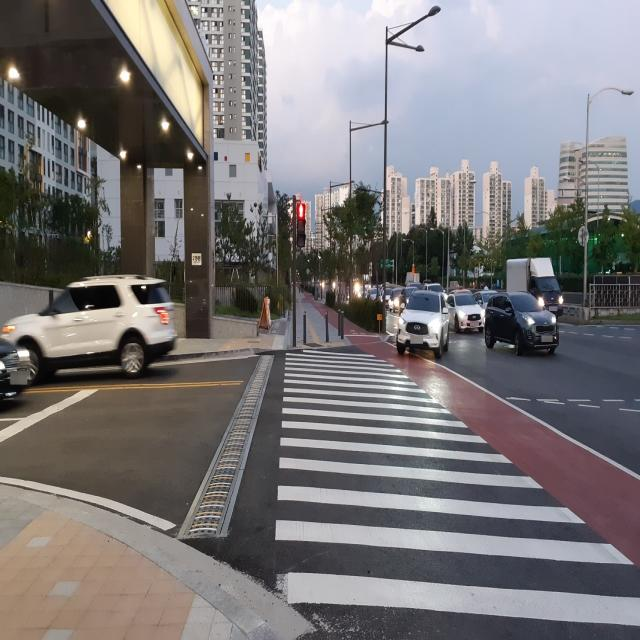빨간불: (297, 203, 305, 246)
횡단보도: (274, 348, 640, 640)
